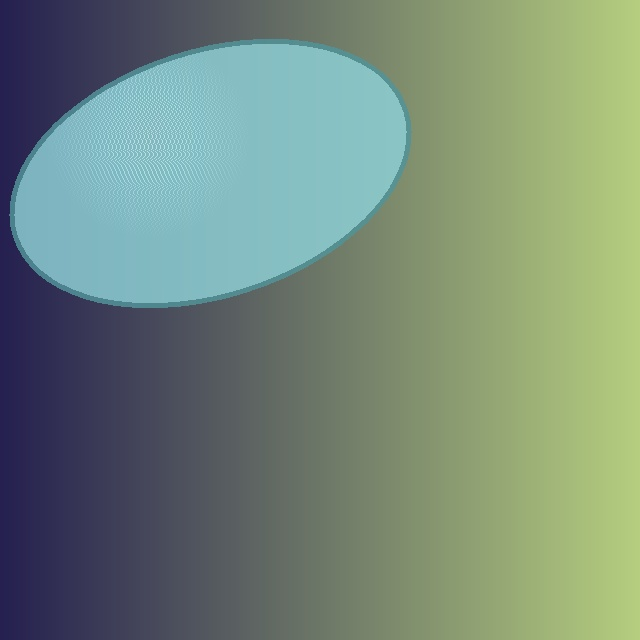lens: (12, 41, 408, 305)
